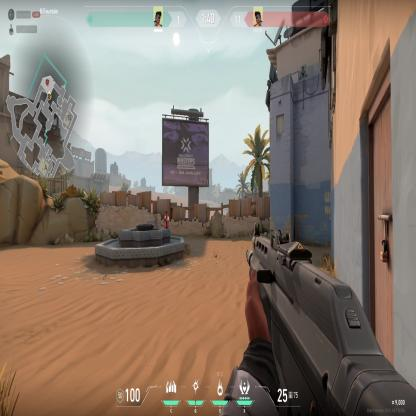enemy: (163, 210, 170, 228)
